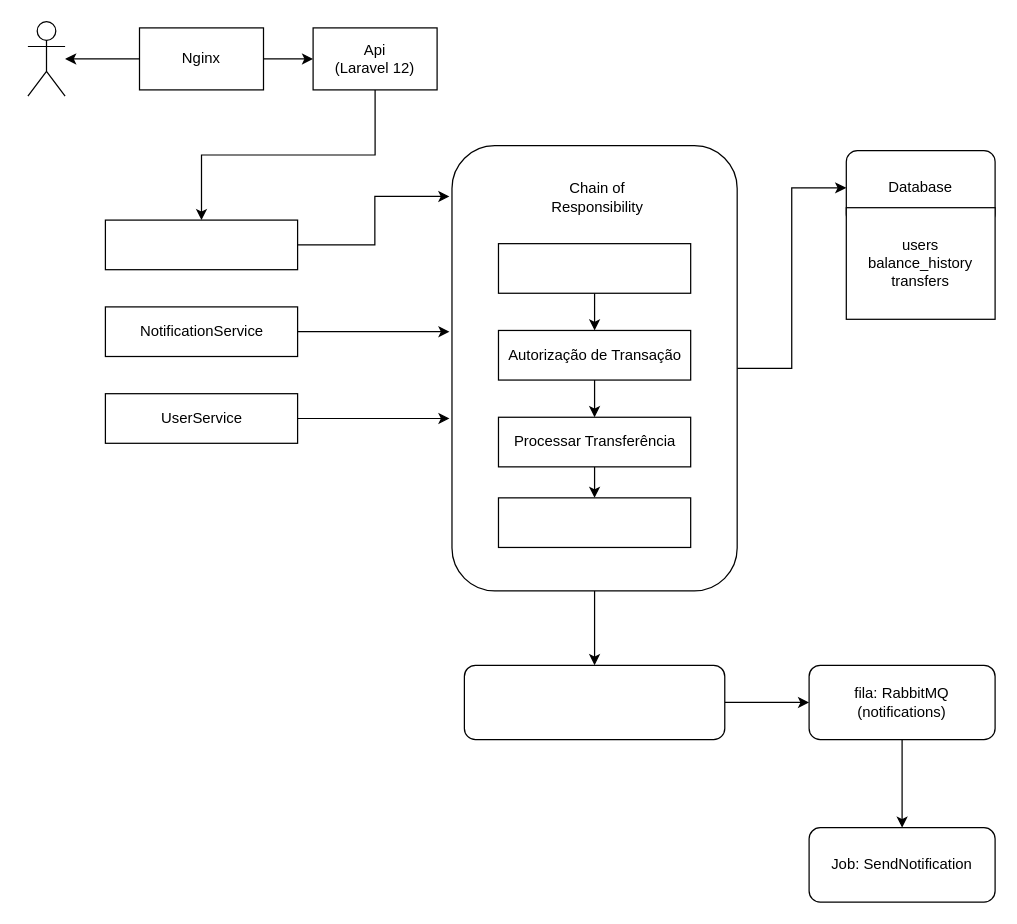
The diagram is 1017 pixels wide and 924 high, and some of its shapes have lost their labels. The shapes that lost their labels are listed below. From the top down, each one's box as (x1, y1, x2, y2) in pixels, then its label:
(27, 20, 65, 96): Usuário
(104, 219, 298, 270): TransferService
(497, 242, 691, 293): Validação de Saldo em Conta
(497, 497, 691, 547): Notificar Usuários
(463, 664, 725, 740): Notificar Usuários (Sucesso ou falha na operação)
